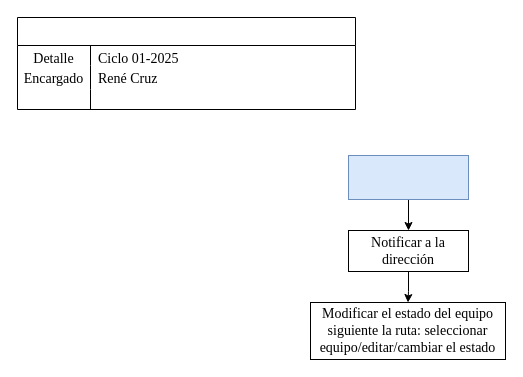
This 523x377 diagram has some shape labels left out. Here are the shapes that lost their labels. From the top down, the box of each, then its label:
(16, 16, 356, 110): Actualización y revisión de inventario de forma mensual
(348, 154, 468, 200): Equipo arruinado
